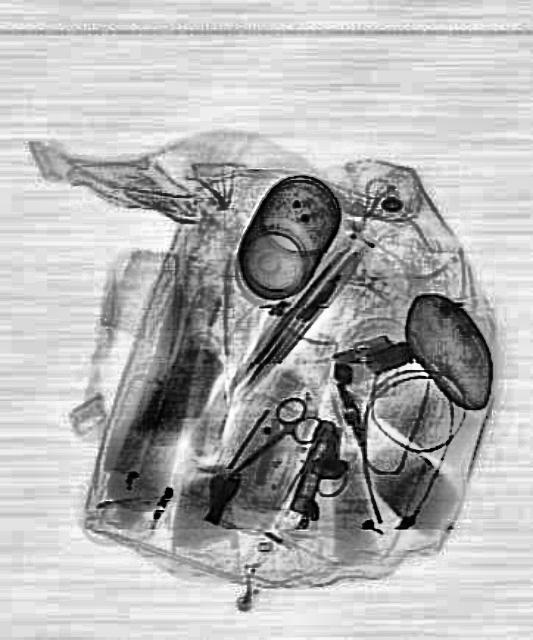Scissors: (216, 384, 327, 494)
